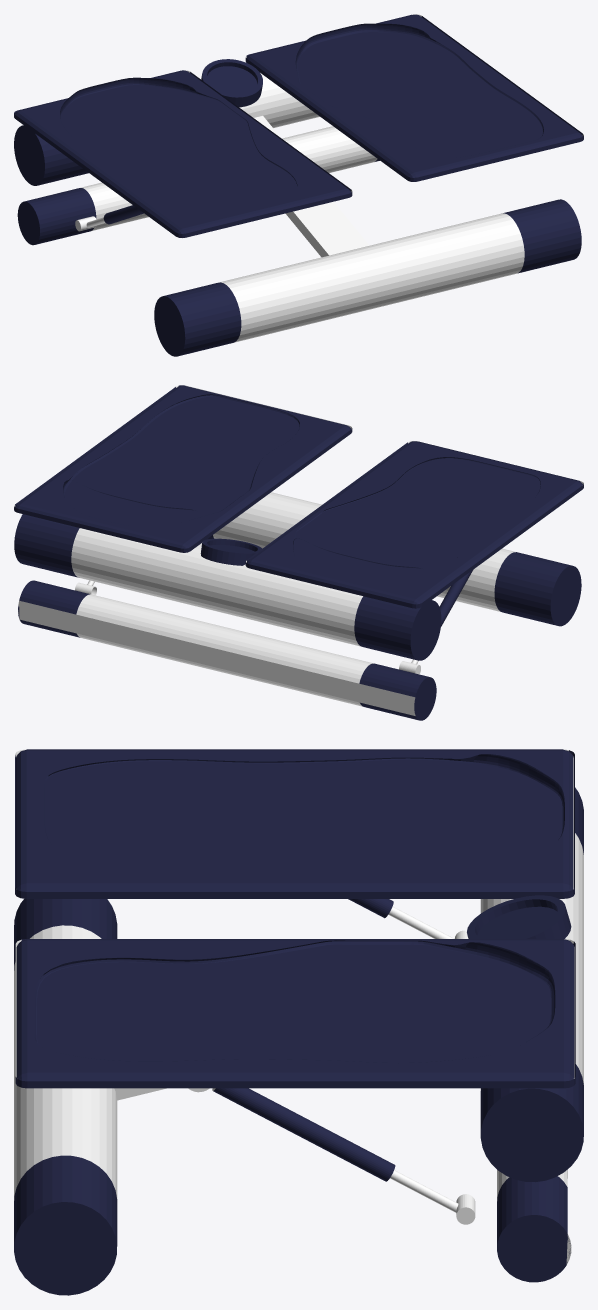
File: Animasi_stepper _Fin.fbx
3 views of the same model, one above another, from view 1: azimuth 30°, elevation 25°; view 2: azimuth 150°, elevation 25°; view 3: azimuth 270°, elevation 25° (orthographic). The views are drawn at different scales.
Parts seen in each view (by area): view 1: Cylinder, feet left, feet right; view 2: Cylinder, feet left, feet right; view 3: feet right, feet left, Cylinder.
Boxes of the visible parts, x1,y1,x2,y2 form: Cylinder: (14, 59, 581, 356); feet left: (14, 70, 352, 237); feet right: (245, 14, 583, 181); Cylinder: (14, 492, 581, 720); feet left: (245, 441, 583, 674); feet right: (14, 385, 352, 595); feet right: (15, 939, 575, 1224); feet left: (15, 749, 574, 938); Cylinder: (14, 787, 583, 1295).
Size of the model in its own units: 0.4829 by 0.1627 by 0.3516.
